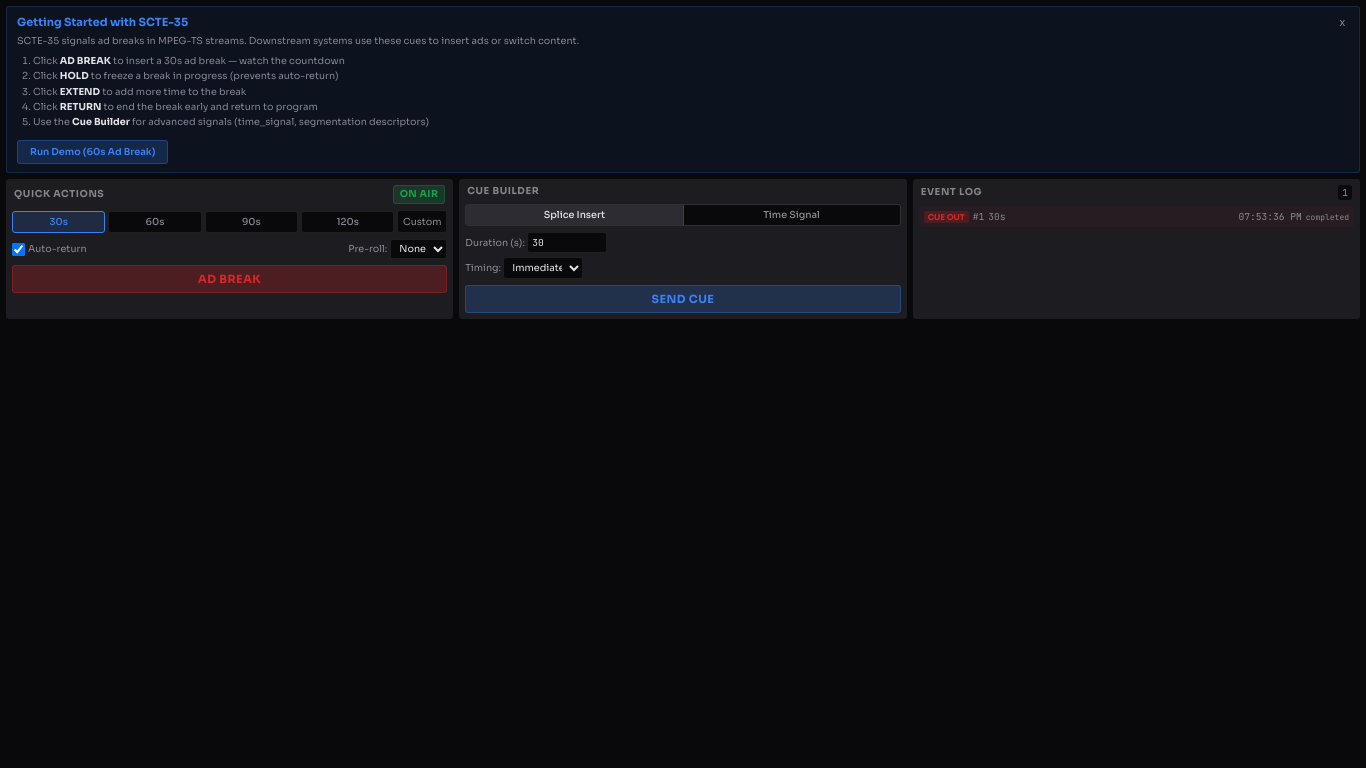
SCTE35Panel › shows routing section when event has source/destination
This screenshot has width=1366, height=768.
Step 1. Click the button with class "log-item-btn" → (946, 217), box [919,206,1354,227]
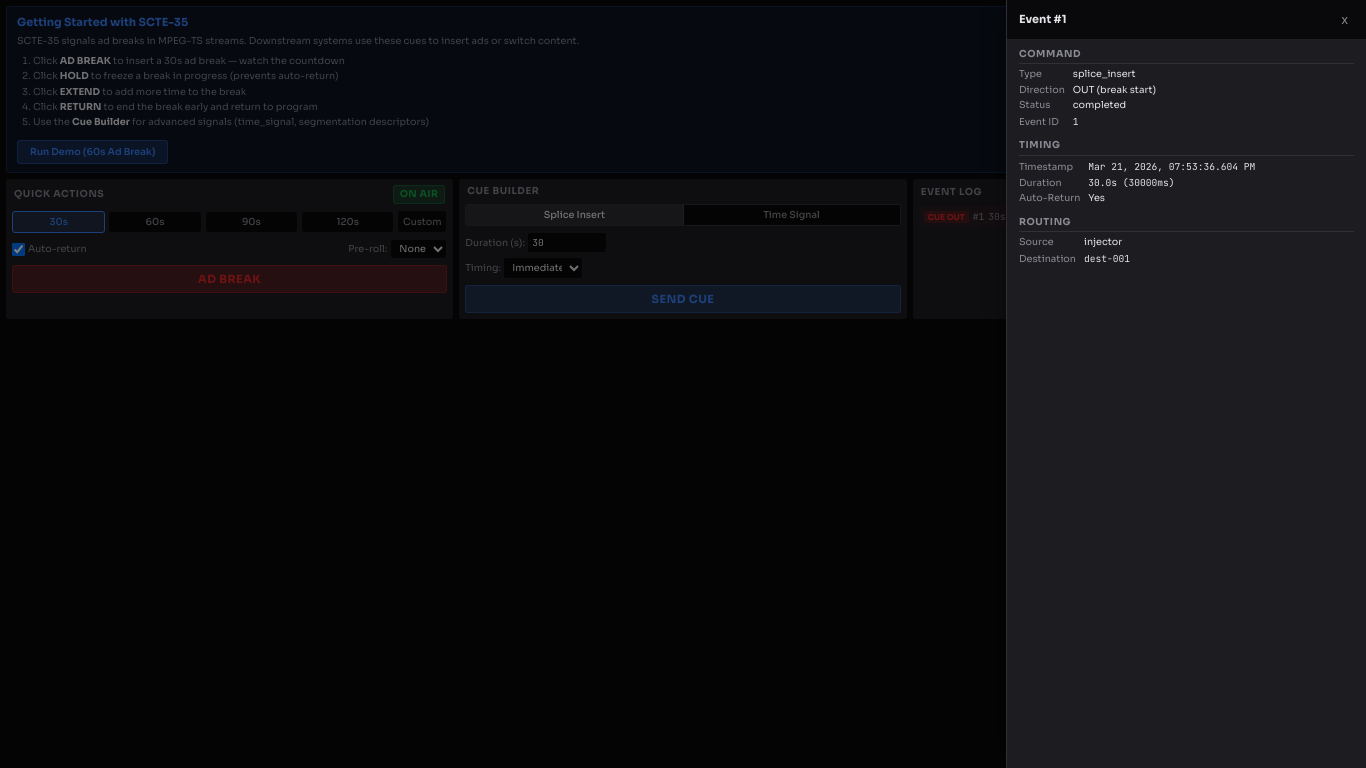
Expected: the element with class "detail-flyout" shows "Routing", [1019,216,1071,228]
Expected: the element with class "detail-flyout" shows "injector", [1084,236,1122,248]
Expected: the element with class "detail-flyout" shows "dest-001", [1084,252,1130,265]
